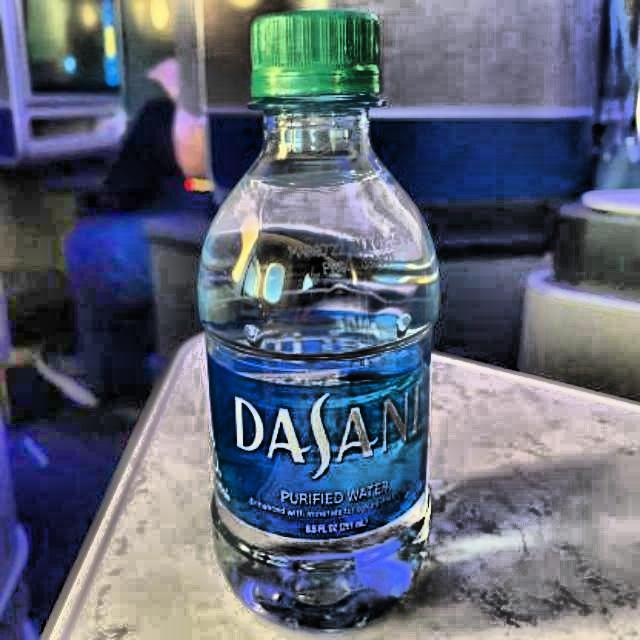Bottles: (189, 0, 459, 640)
